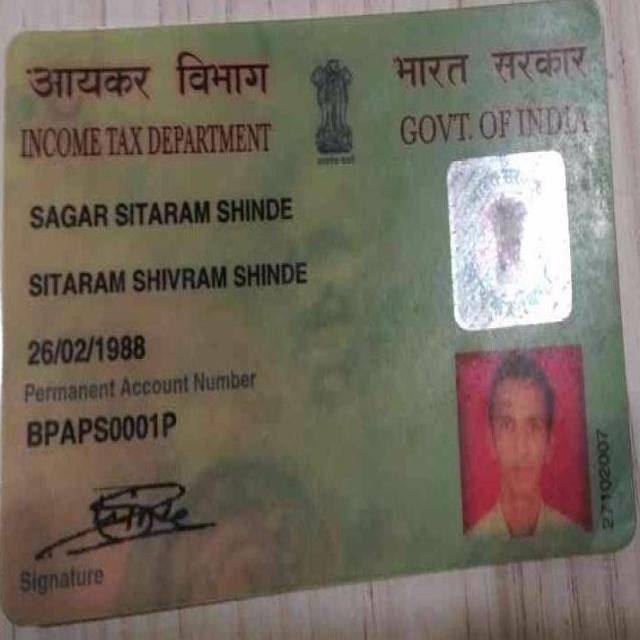pan_card: (4, 0, 635, 633)
